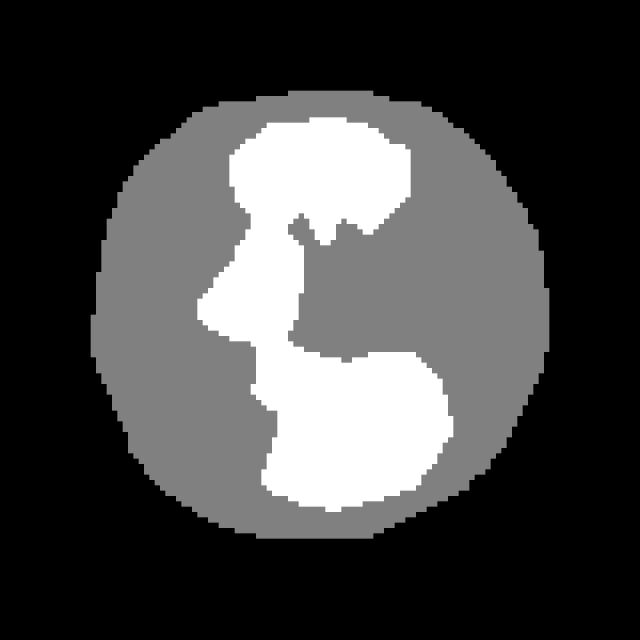WBC: (75, 69, 549, 555)
